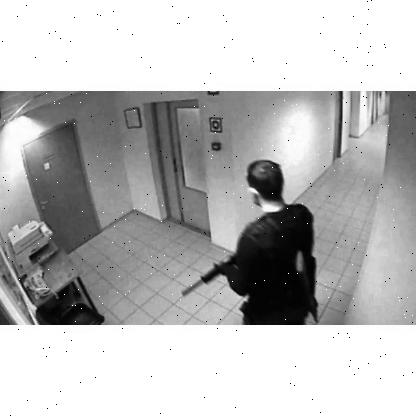gun: (180, 254, 236, 298)
